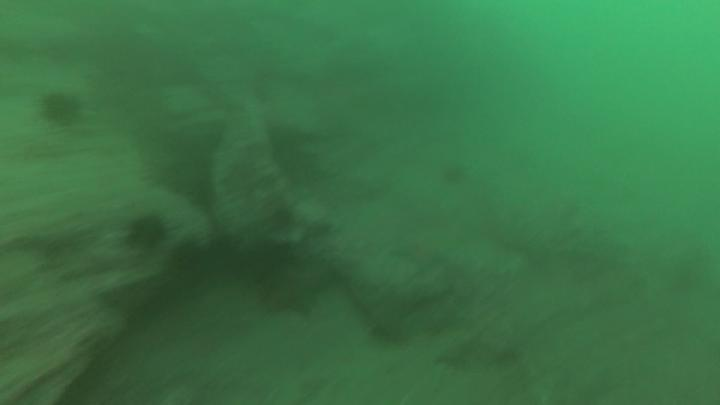echinus: (130, 214, 165, 247), (42, 94, 79, 122)
starfish: (265, 258, 330, 316), (392, 234, 449, 271)
